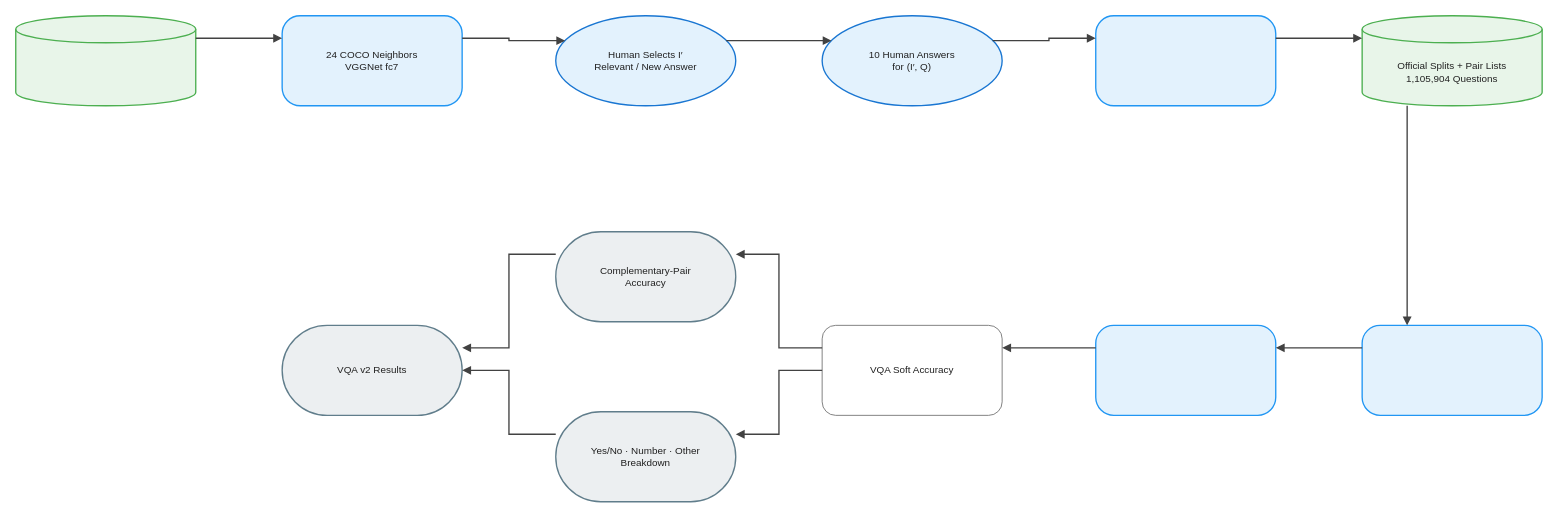
Image size: 1559x518. Some labels were removed from this diagram. The shapes that lost their labels are listed below. From the top down, each one's centre as x and y in pixels, then its label:
(x=105, y=60): Original VQA (I, Q, A)
(x=1185, y=60): Merge Complementary Image-Question Pairs
(x=1185, y=370): Match 10 Human Answers
(x=1451, y=370): Image + Question Model Answer
